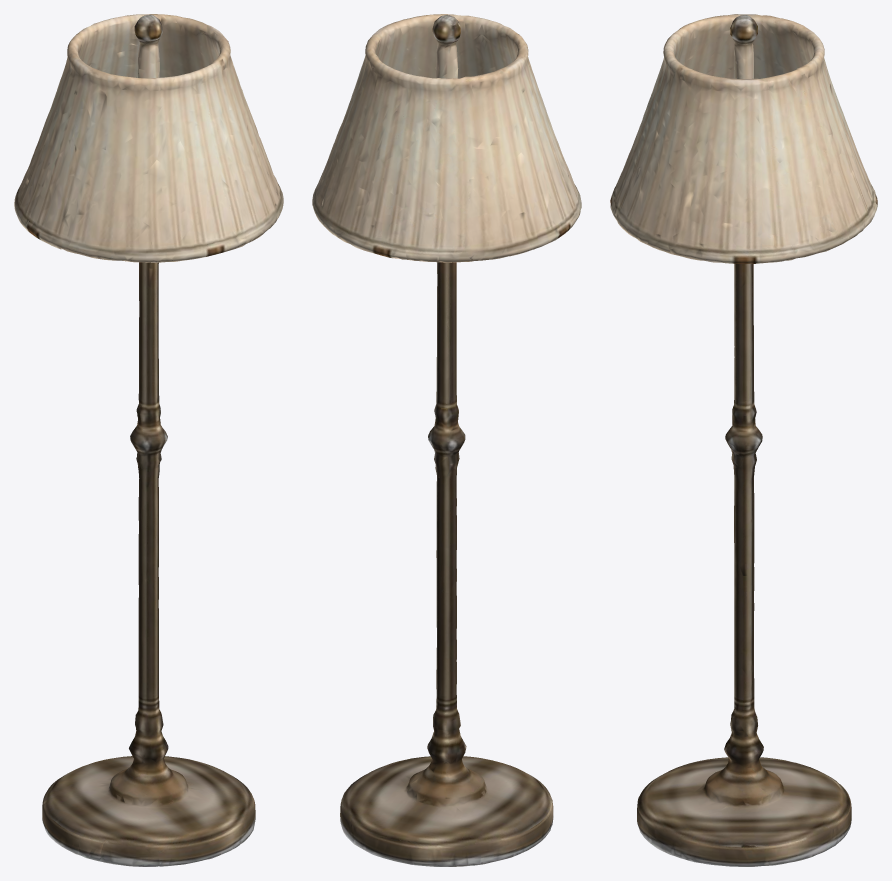
File: floorlamp.glb
3 views of the same model, side by side, from view 1: azimuth 30°, elevation 25°; view 2: azimuth 150°, elevation 25°; view 3: azimuth 270°, elevation 25° (orthographic).
Parts seen in each view (by area): view 1: geometry_0; view 2: geometry_0; view 3: geometry_0.
Boxes of the visible parts, x1=… form: geometry_0: x1=14, y1=14, x2=283, y2=866; geometry_0: x1=312, y1=14, x2=581, y2=866; geometry_0: x1=610, y1=14, x2=877, y2=866.
Bounding box in the file's own units: 0.5977 × 1.96 × 0.5874.
1 material, 1 textured.
